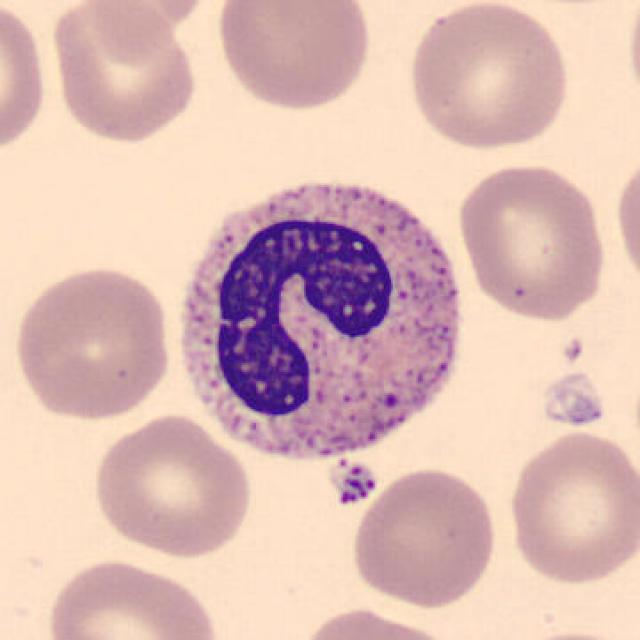Neutrophil: (160, 162, 473, 485)
Platelets: (535, 372, 610, 430), (329, 462, 379, 508)
RBC: (9, 261, 174, 423), (403, 0, 574, 153), (454, 158, 612, 322), (87, 410, 256, 560), (347, 462, 501, 610), (46, 0, 202, 146), (503, 428, 638, 589), (212, 0, 375, 115), (41, 553, 224, 640), (0, 2, 52, 158), (82, 0, 217, 51), (292, 603, 462, 640), (611, 148, 640, 296), (503, 626, 638, 640), (624, 0, 640, 118)
